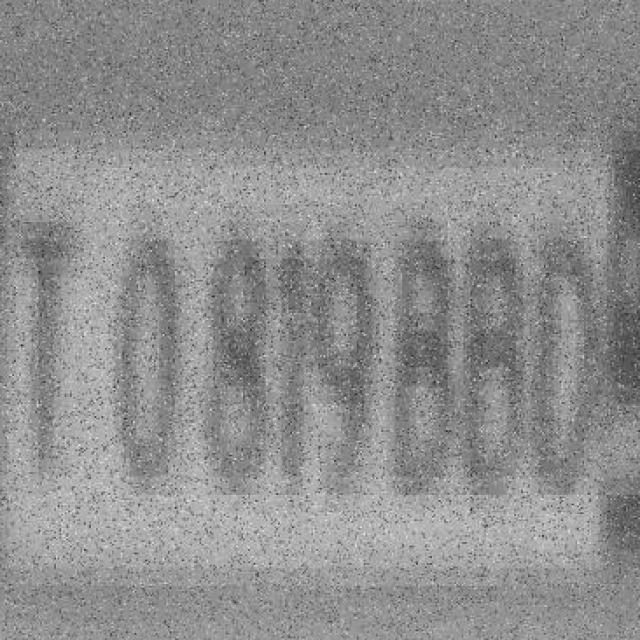licenseplate: (0, 87, 640, 628)
